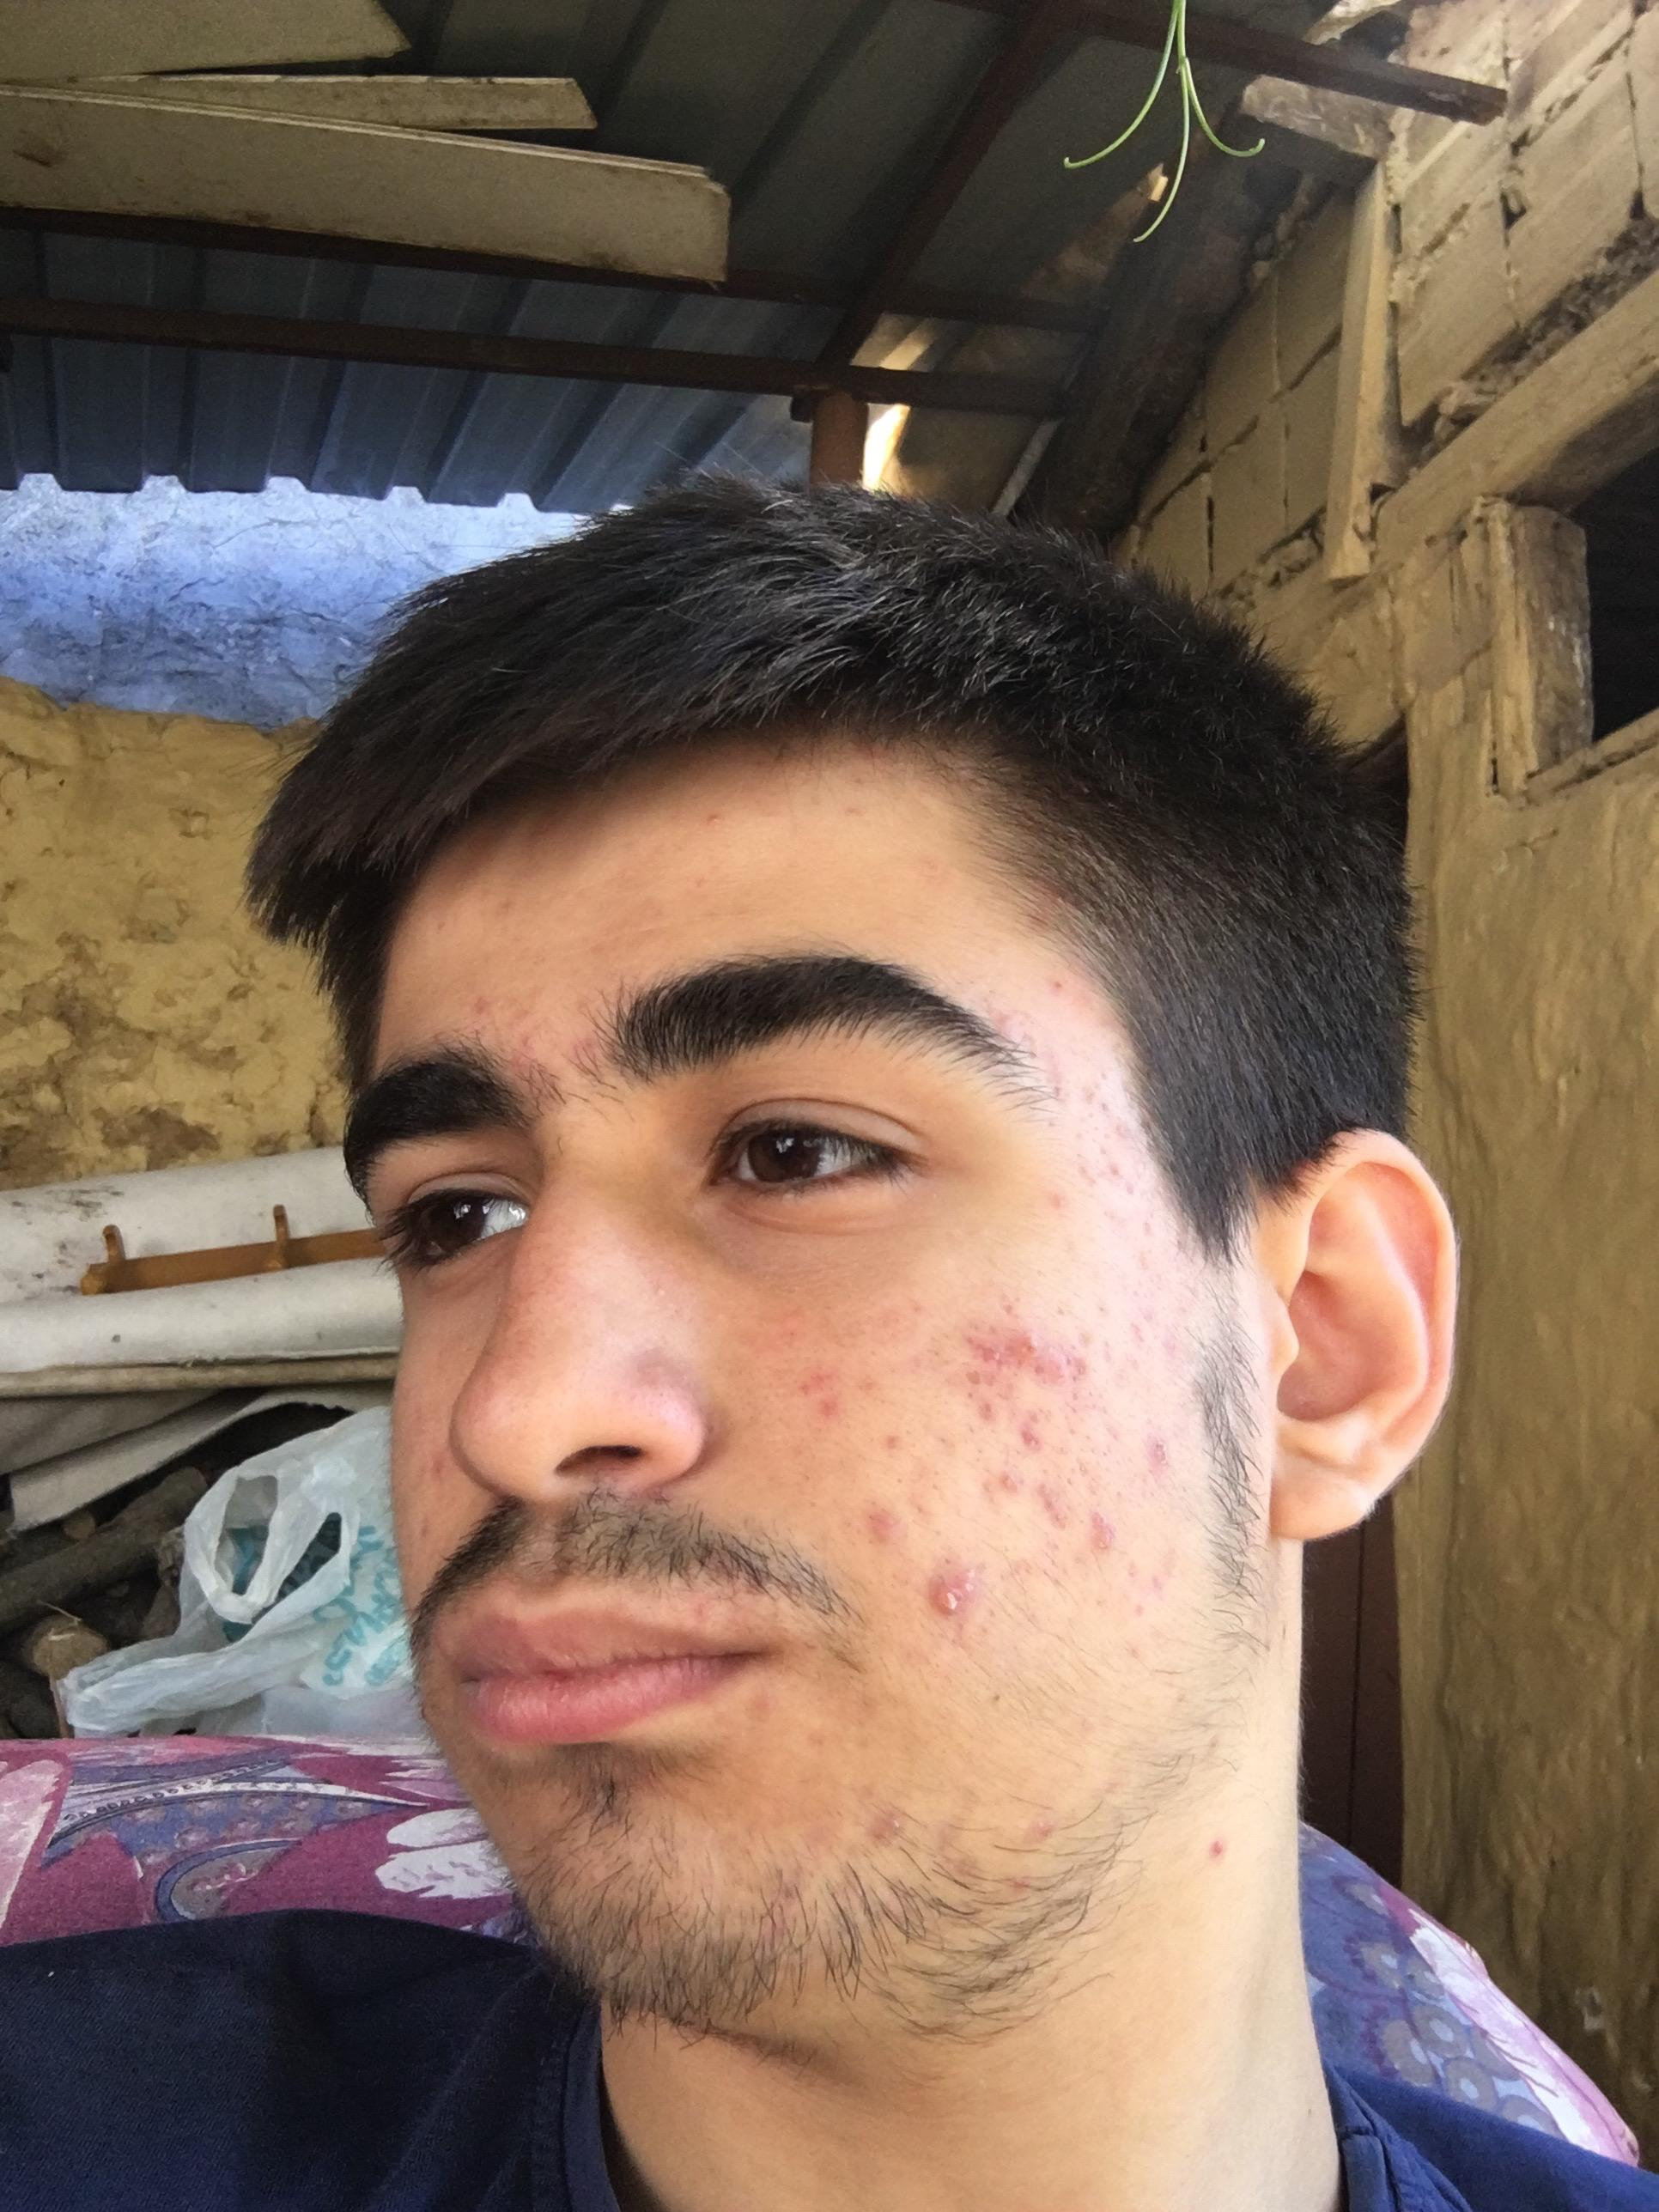Acne: (955, 1313, 1094, 1423), (1073, 1148, 1164, 1238), (1121, 1552, 1168, 1665), (1039, 1064, 1117, 1120), (857, 1791, 918, 1853), (800, 1359, 843, 1435), (925, 1555, 983, 1611), (1079, 1500, 1121, 1562), (1032, 1474, 1070, 1536), (974, 1461, 1021, 1510), (906, 1458, 941, 1522), (859, 1498, 899, 1552), (1007, 1416, 1049, 1460), (498, 989, 547, 1022), (742, 1684, 781, 1726), (502, 1035, 540, 1071), (425, 1442, 455, 1489), (1147, 1428, 1171, 1484), (1122, 1310, 1152, 1355), (979, 1000, 1019, 1033), (1204, 1825, 1230, 1872), (462, 986, 497, 1021), (484, 890, 521, 921), (877, 1421, 904, 1461), (852, 1367, 885, 1399), (918, 850, 946, 887), (692, 803, 723, 834), (1026, 1813, 1061, 1838), (688, 1592, 716, 1622), (572, 1033, 605, 1057), (1046, 1186, 1079, 1211), (415, 1508, 439, 1541), (1046, 968, 1070, 998), (1004, 1874, 1035, 1897), (842, 803, 863, 819)
